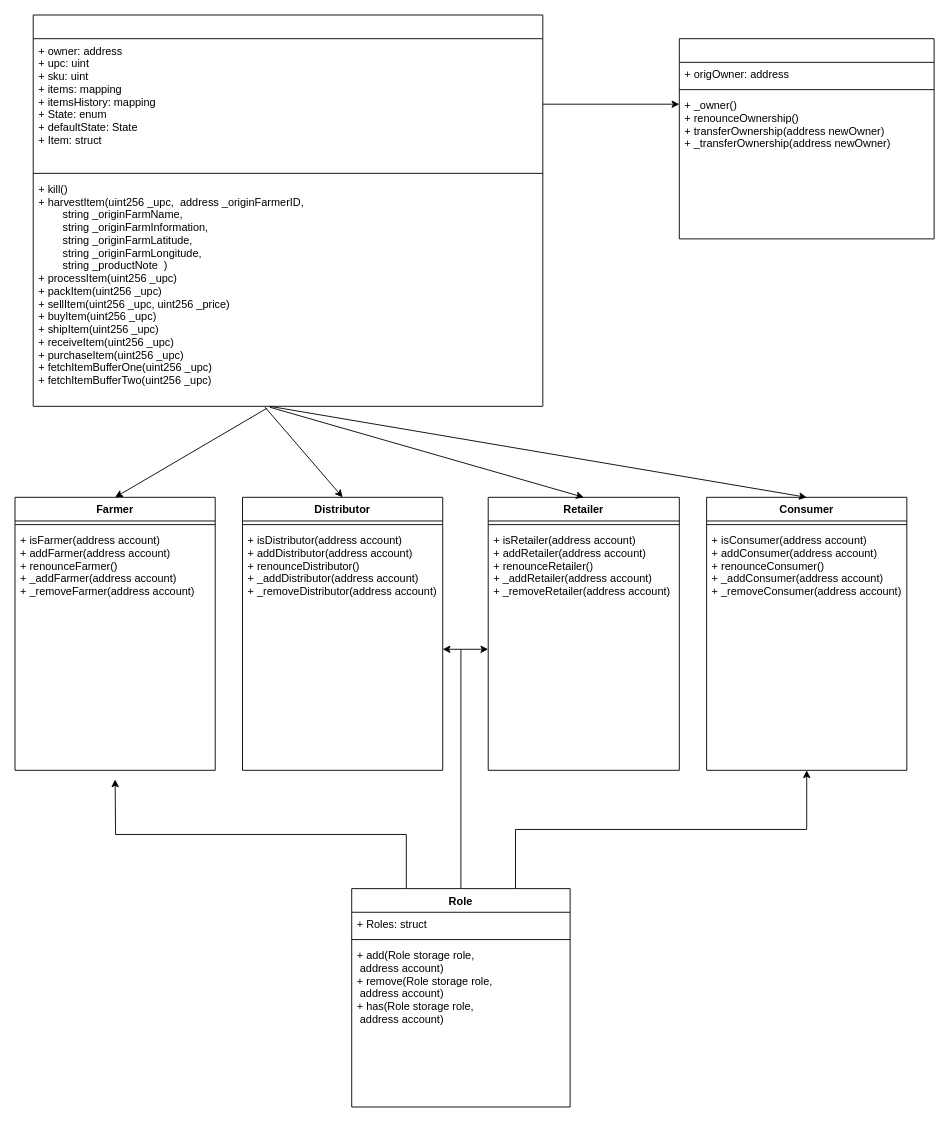
Image size: 949x1122. Some labels were removed from this diagram. Each missing label, with the box of its shape:
Ownable: (678, 38, 934, 239)
Supply Chain: (32, 14, 543, 406)
